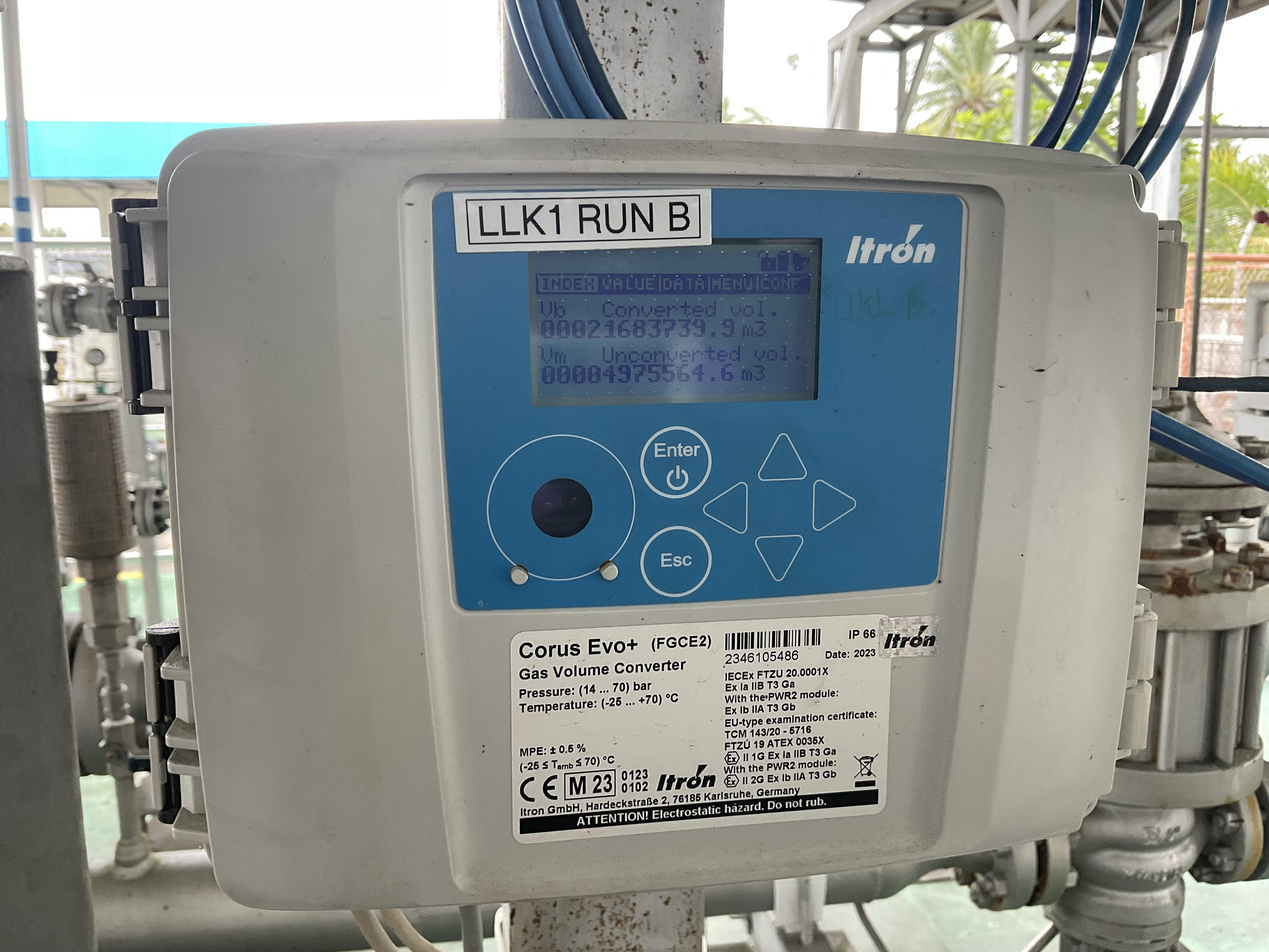digital_screen: (529, 238, 824, 405)
